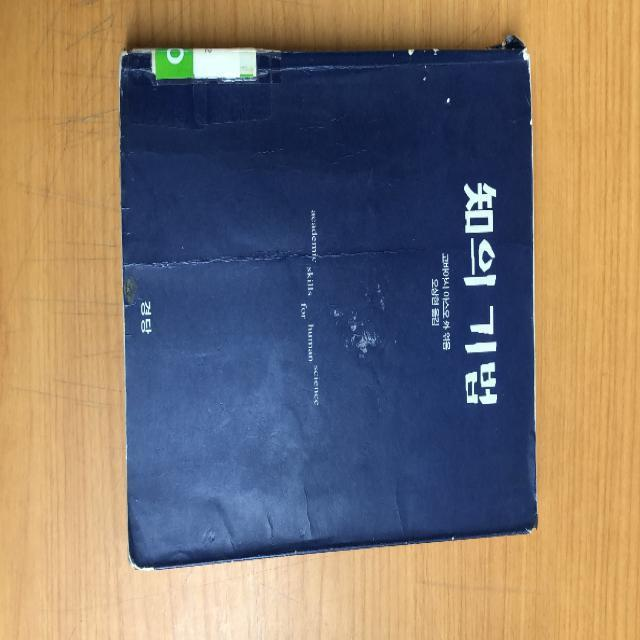Ripped: (472, 30, 536, 75), (114, 45, 149, 109), (125, 504, 154, 575)
Wornout: (521, 345, 544, 439), (519, 75, 536, 179), (120, 388, 139, 466), (516, 491, 541, 540), (390, 40, 441, 60)
